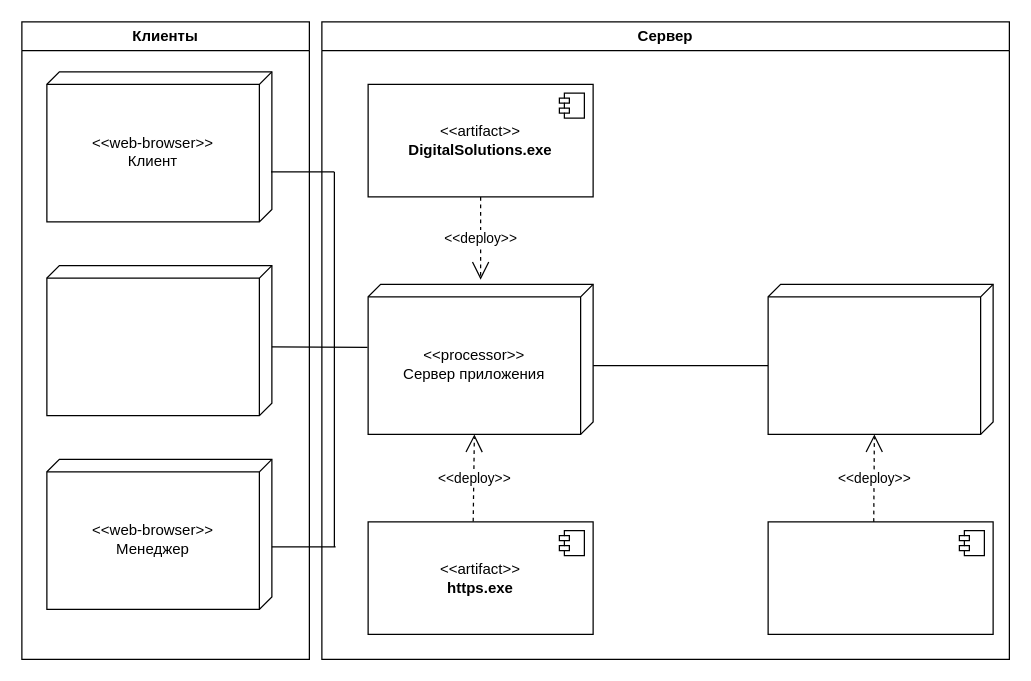
The diagram is 1031 pixels wide and 681 high, and some of its shapes have lost their labels. The shapes that lost their labels are listed below. From the top down, each one's centre as x and y in pixels, then its label:
[159,340]: <<web-browser>> Разработчик
[880,358]: <<processor>> Сервер базы данных
[880,577]: <<artifact>> datagrip.exe
